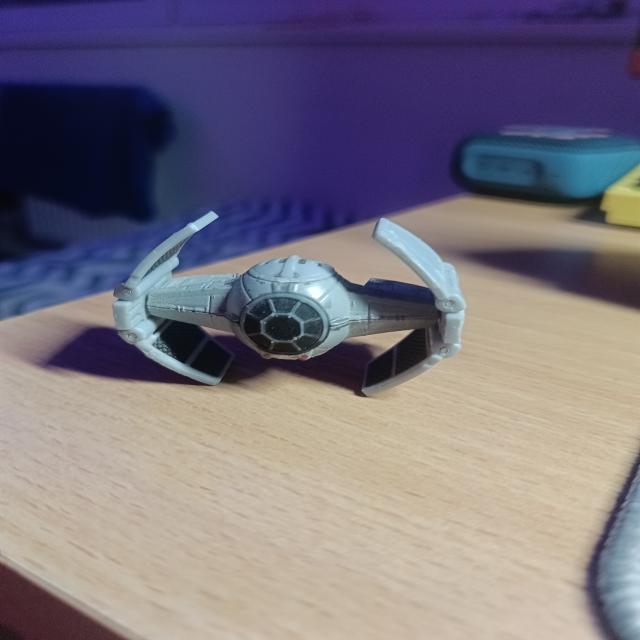tie fighter: (113, 212, 465, 396)
